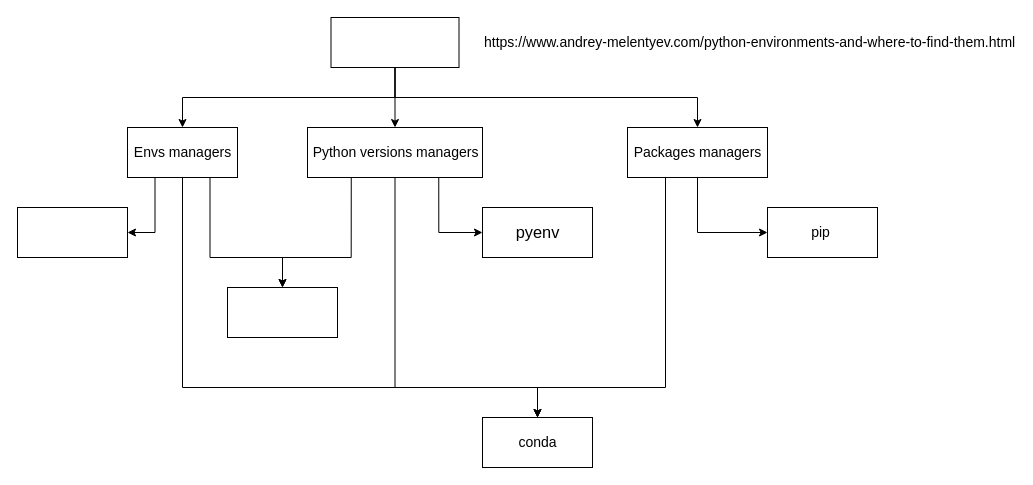
This 1033x485 diagram has some shape labels left out. The shapes that lost their labels are listed below. From the top down, each one's centre as x and y in pixels, then its label:
At point (394, 42): "Python managers".
At point (72, 232): "virtualenv".
At point (282, 312): "pyenv-virtualenv".
